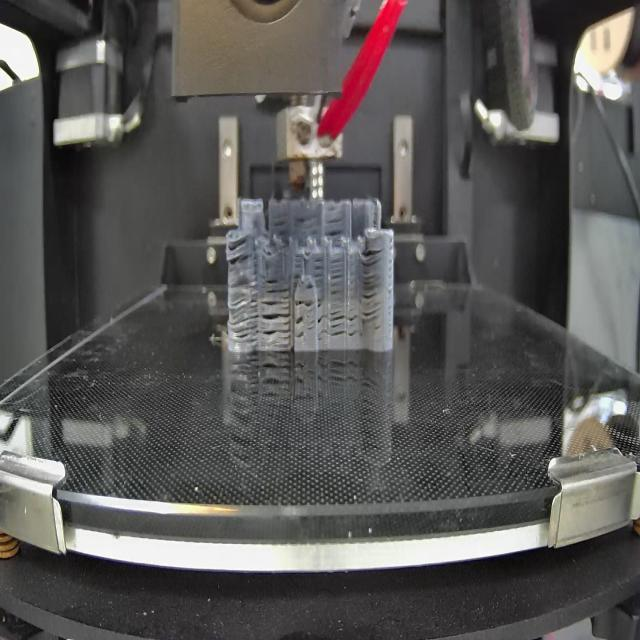cracks: (228, 279, 258, 343), (363, 249, 382, 322), (260, 299, 291, 342), (226, 237, 256, 264), (328, 307, 346, 338), (329, 259, 343, 297), (266, 277, 291, 296), (316, 294, 326, 340), (347, 306, 360, 341), (274, 215, 290, 237), (325, 218, 344, 236), (311, 258, 323, 282), (295, 317, 305, 340), (296, 297, 314, 309), (293, 253, 300, 279), (306, 282, 314, 292), (297, 217, 315, 221)
